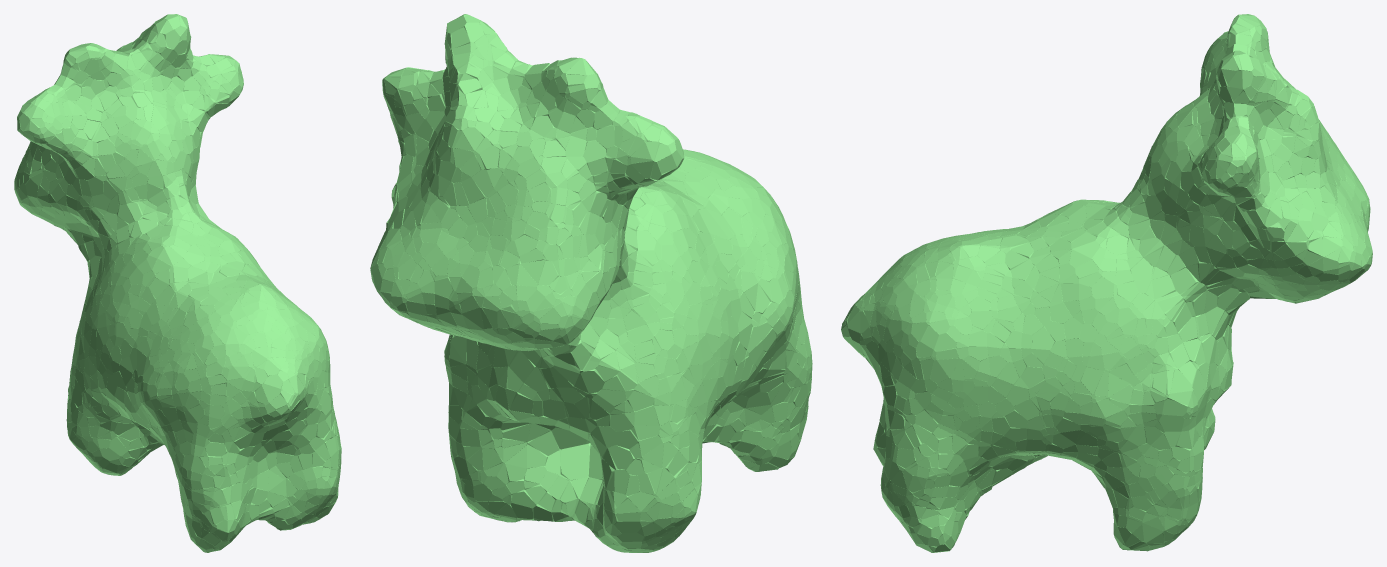
Rendered from cow_1pct_vorolight.glb.
The picture shows the model from 3 angles, left to right: view 1: azimuth 30°, elevation 25°; view 2: azimuth 150°, elevation 25°; view 3: azimuth 270°, elevation 25°; orthographic projection. The views are drawn at different scales.
Visible parts, largest first — view 1: shape50_normal10_cow_noise_1pct_polygon.obj; view 2: shape50_normal10_cow_noise_1pct_polygon.obj; view 3: shape50_normal10_cow_noise_1pct_polygon.obj.
Part boxes in pixels (x1,y1,x2,y2): shape50_normal10_cow_noise_1pct_polygon.obj: [14, 14, 341, 552]; shape50_normal10_cow_noise_1pct_polygon.obj: [370, 14, 812, 552]; shape50_normal10_cow_noise_1pct_polygon.obj: [841, 14, 1372, 552].
Bounding box in the file's own units: 0.7636 × 1.37 × 1.33.
